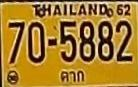0: (27, 21, 44, 62)
2: (115, 20, 131, 61)
5: (60, 20, 76, 61)
7: (8, 21, 24, 63)
8: (97, 20, 113, 60), (79, 20, 94, 60)
TAK: (59, 70, 86, 84)
